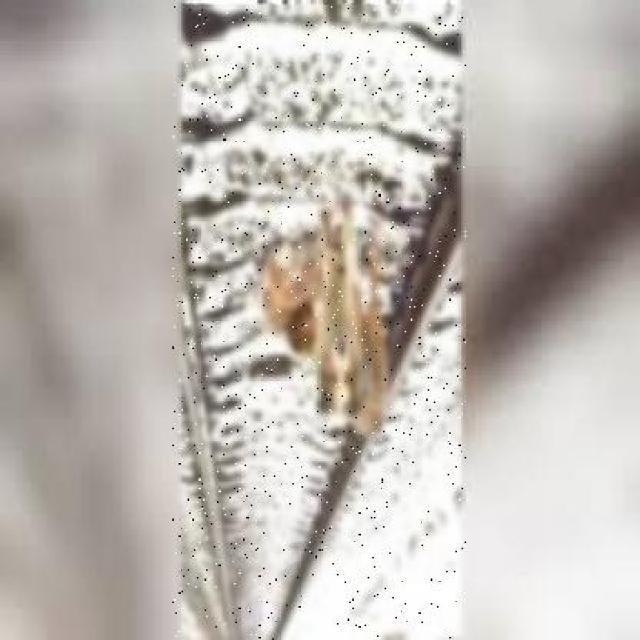danger: (240, 209, 397, 448)
rail: (172, 6, 465, 639)
